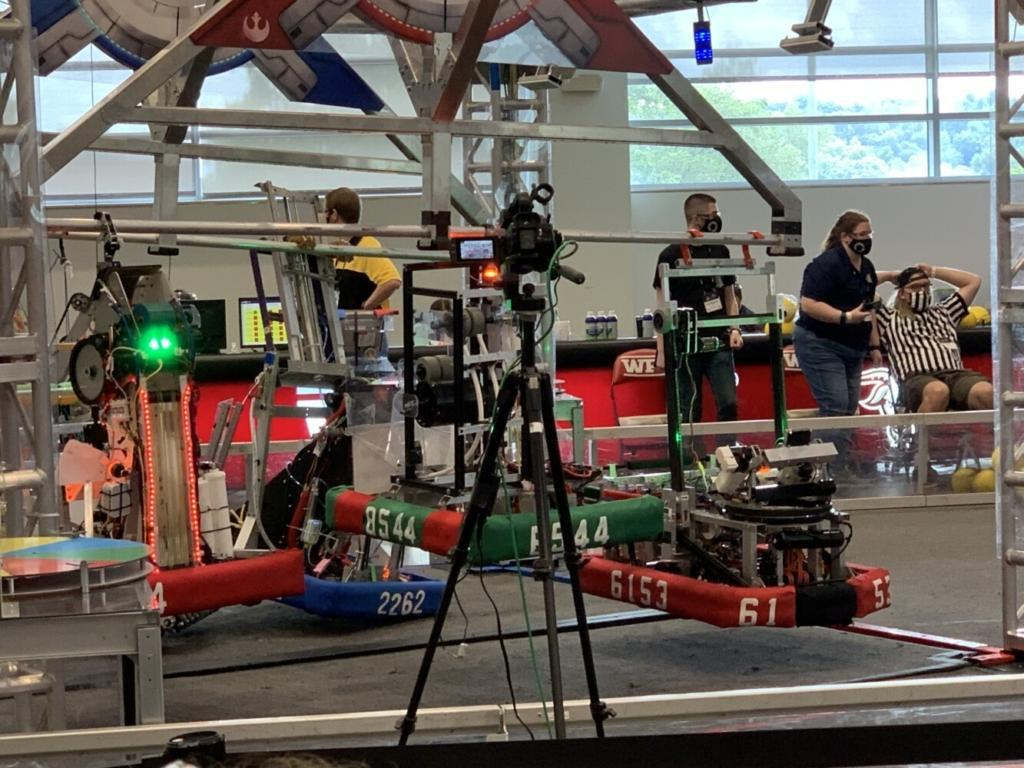robot: (582, 221, 898, 638), (320, 213, 666, 571), (53, 207, 313, 616), (260, 271, 464, 630)
